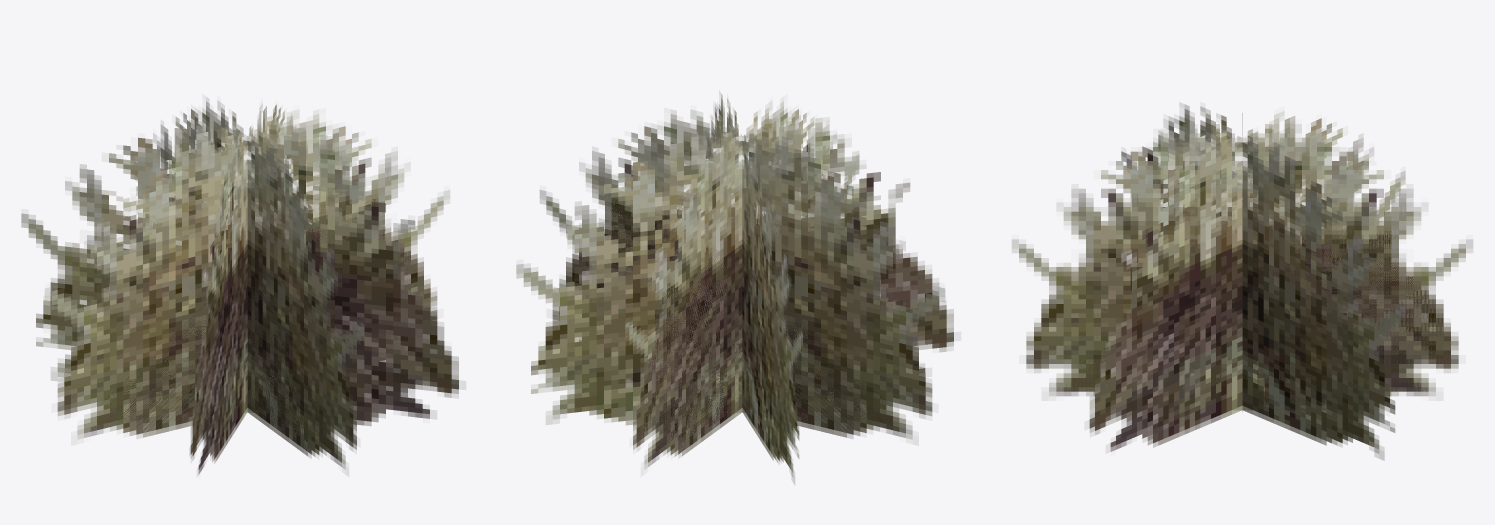
File: Environment - Debris and Ruins - Rubble Mound - Debris - PMDsrtBrGr2.glb
The picture shows the model from 3 angles, left to right: view 1: azimuth 30°, elevation 25°; view 2: azimuth 150°, elevation 25°; view 3: azimuth 270°, elevation 25°; orthographic projection.
Parts seen in each view (by area): view 1: PMDSRTBRGR2; view 2: PMDSRTBRGR2; view 3: PMDSRTBRGR2.
Boxes of the visible parts, <box> form: PMDSRTBRGR2: <box>21,97,465,476</box>; PMDSRTBRGR2: <box>516,91,960,484</box>; PMDSRTBRGR2: <box>1011,103,1473,460</box>.
Size of the model in its own units: 12.73 by 8.71 by 12.73.
1 material, 1 textured.
